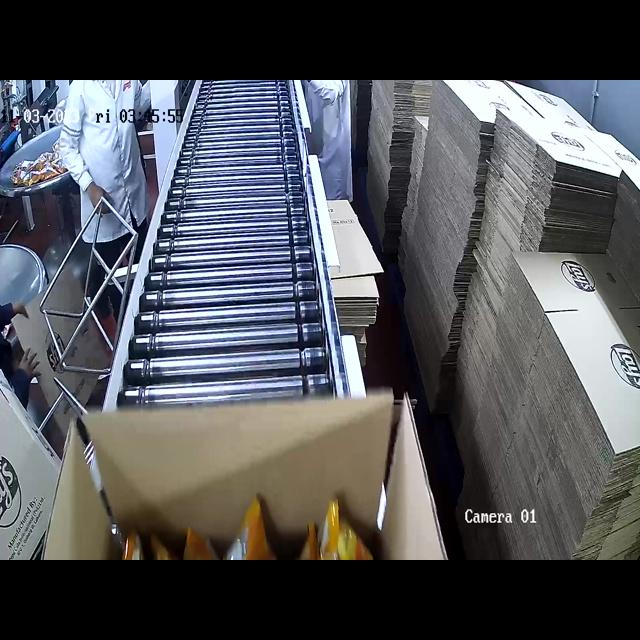cheese: (115, 479, 371, 560)
